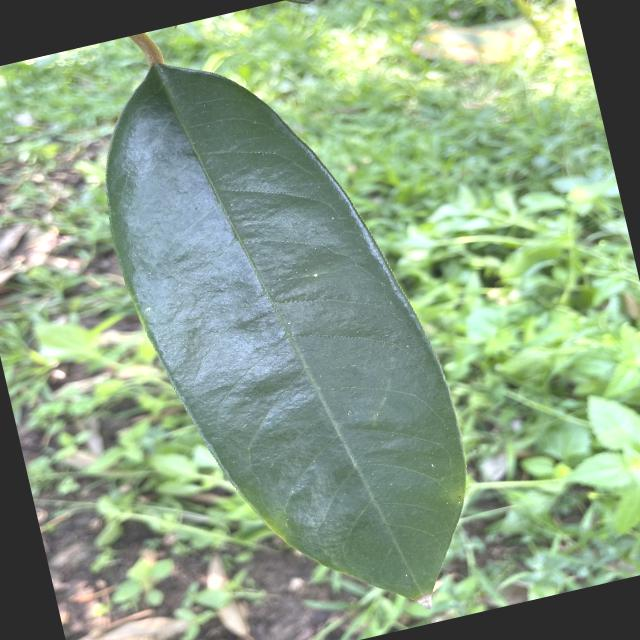No Disease: (63, 11, 508, 639)
